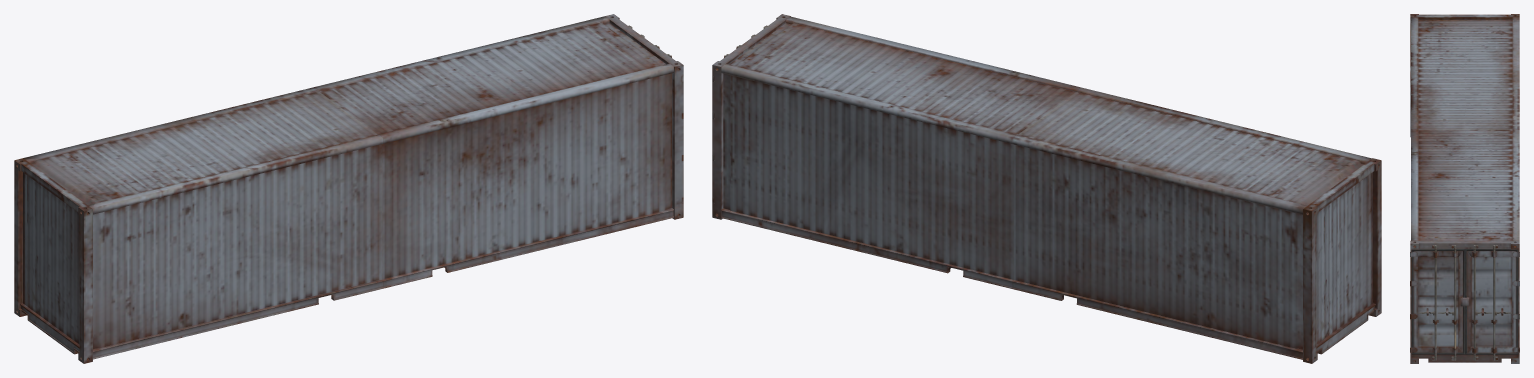
File: container_40_green.glb
3 views of the same model, side by side, from view 1: azimuth 30°, elevation 25°; view 2: azimuth 150°, elevation 25°; view 3: azimuth 270°, elevation 25° (orthographic). The views are drawn at different scales.
Parts seen in each view (by area): view 1: container_40_green; view 2: container_40_green; view 3: container_40_green.
Boxes of the visible parts, x1=… form: container_40_green: x1=14, y1=14, x2=683, y2=363; container_40_green: x1=712, y1=14, x2=1381, y2=363; container_40_green: x1=1410, y1=14, x2=1519, y2=363.
Bounding box in the file's own units: 12.19 × 2.95 × 2.45.
1 material, 1 textured.
